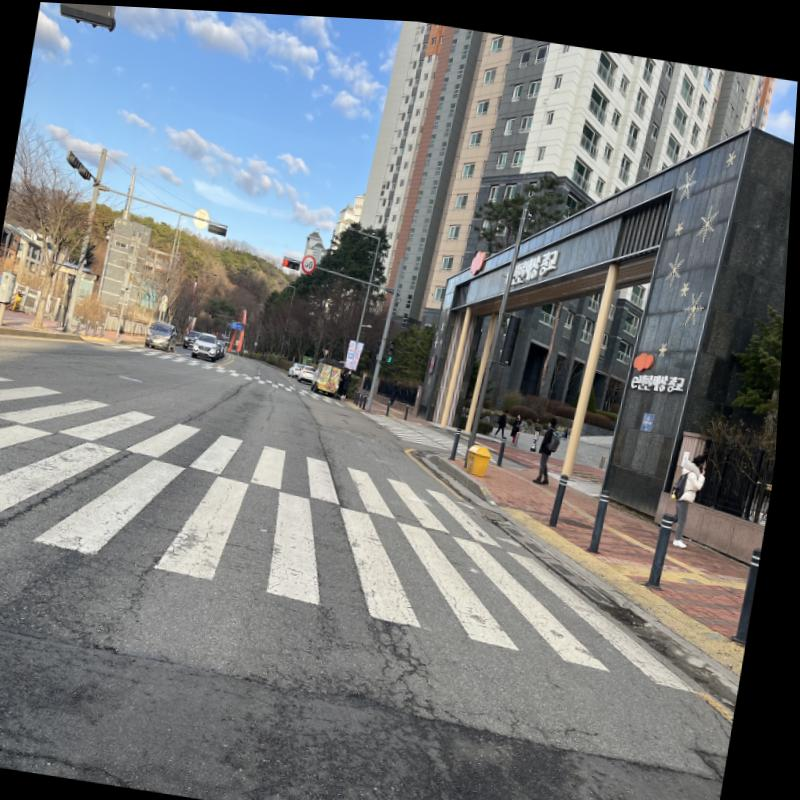red: (285, 255, 292, 263)
